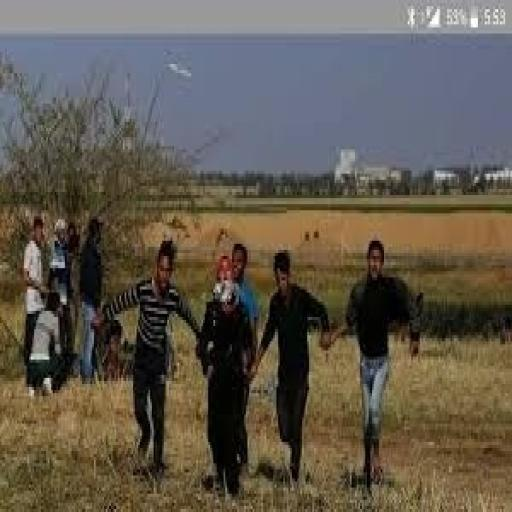running: (90, 234, 205, 482), (328, 234, 426, 490), (244, 246, 335, 488), (194, 250, 258, 500)
